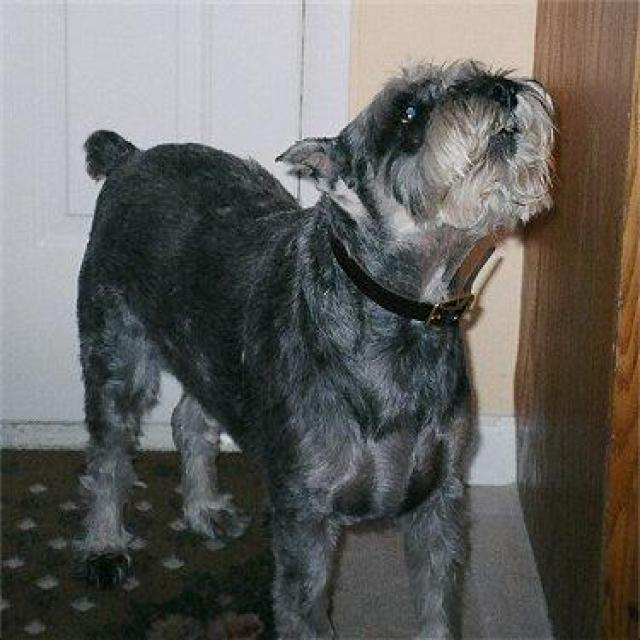standard_schnauzer: (75, 52, 558, 636)
